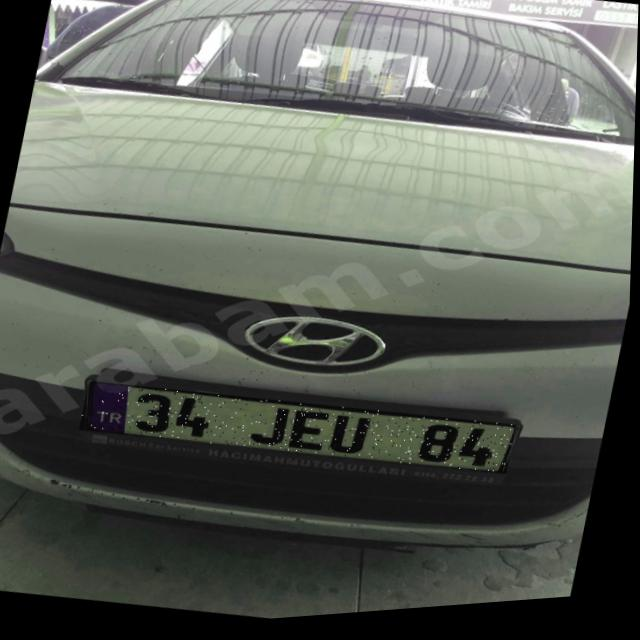license_plate: (80, 357, 520, 507)
